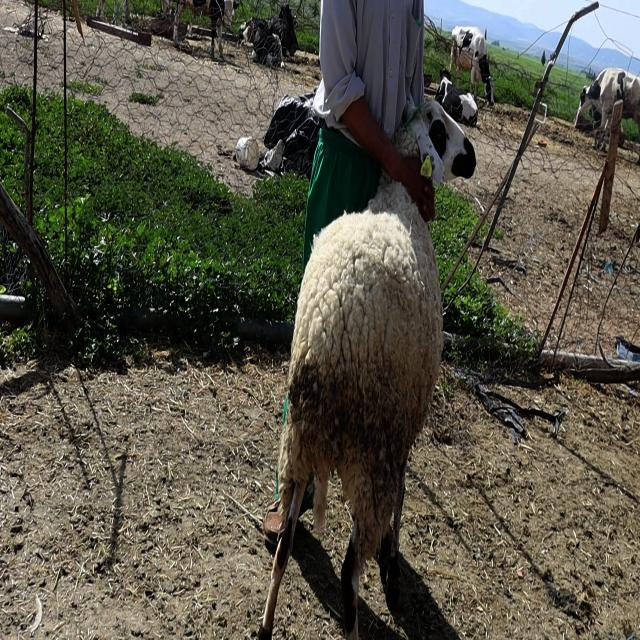Score_5: (258, 177, 442, 639)
